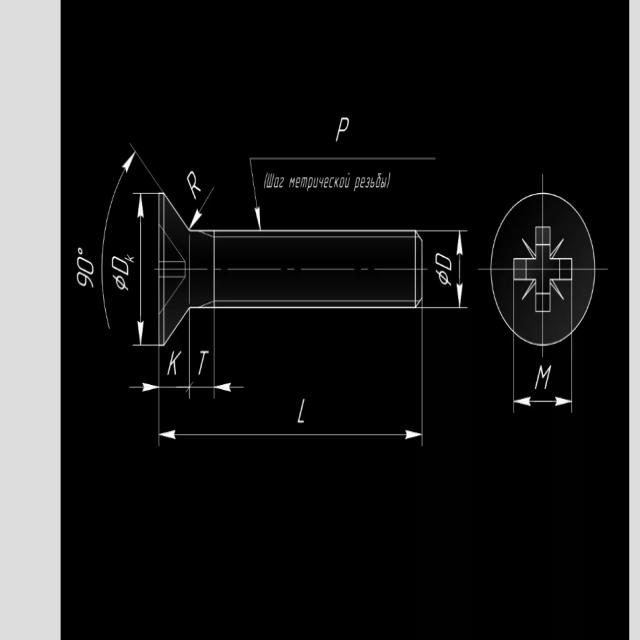marking_line: (160, 430, 420, 440), (137, 194, 144, 346), (454, 232, 465, 306), (514, 396, 572, 410), (127, 382, 158, 394), (217, 383, 246, 391)
numeric: (75, 253, 97, 274), (75, 268, 93, 287)
special_symbol: (249, 156, 456, 230), (190, 183, 219, 228), (111, 273, 130, 294), (435, 269, 452, 289)
